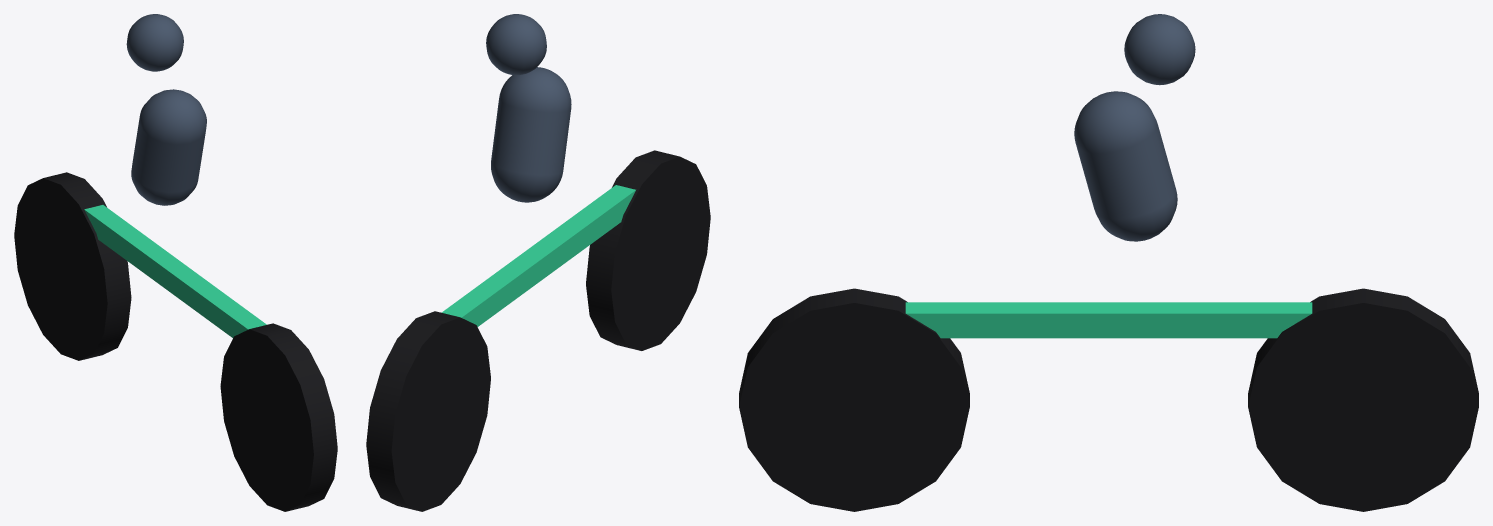
Rendered from cyclist.glb.
3 renders of one model, left to right at view 1: azimuth 30°, elevation 25°; view 2: azimuth 150°, elevation 25°; view 3: azimuth 270°, elevation 25°, orthographic. The views are drawn at different scales.
Parts seen in each view (by area): view 1: Wheel_Rear, Wheel_Front, Rider_Torso, Chassis_Frame, Rider_Head; view 2: Wheel_Front, Wheel_Rear, Rider_Torso, Chassis_Frame, Rider_Head; view 3: Wheel_Front, Wheel_Rear, Chassis_Frame, Rider_Torso, Rider_Head.
Part boxes in pixels (x1,y1,x2,y2): Wheel_Rear: (220,323,337,511); Wheel_Front: (14,172,131,360); Rider_Torso: (131,89,206,205); Chassis_Frame: (84,205,266,337); Rider_Head: (126,14,183,71); Wheel_Front: (366,311,490,511); Wheel_Rear: (586,150,710,350); Rider_Torso: (491,67,571,202); Chassis_Frame: (442,185,635,326); Rider_Head: (486,14,546,75); Wheel_Front: (1248,288,1478,511); Wheel_Rear: (739,288,969,511); Chassis_Frame: (905,302,1312,338); Rider_Torso: (1074,91,1177,241); Rider_Head: (1124,14,1195,85).
Bounding box in the file's own units: 0.25 × 1.59 × 2.18.
